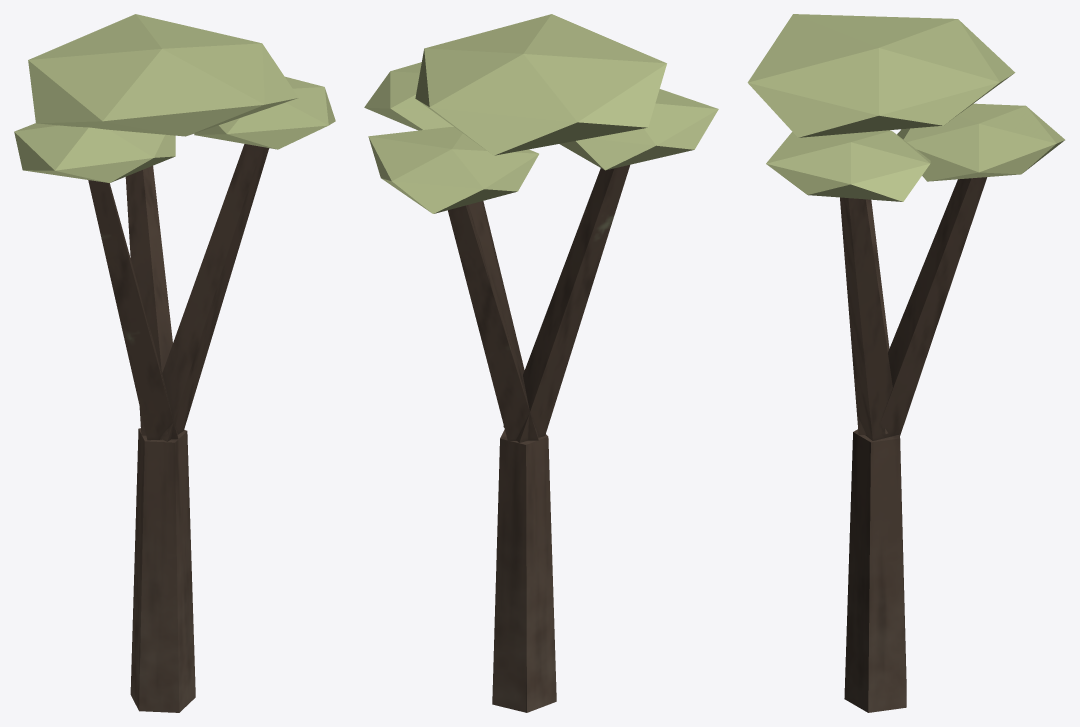
The model's file is arv_acacia_4.glb.
3 renders of one model, left to right at view 1: azimuth 30°, elevation 25°; view 2: azimuth 150°, elevation 25°; view 3: azimuth 270°, elevation 25°, orthographic.
Visible parts, largest first — view 1: arv_acacia_4; view 2: arv_acacia_4; view 3: arv_acacia_4.
Boxes of the visible parts, bbox=[...] form: arv_acacia_4: bbox=[14, 14, 335, 712]; arv_acacia_4: bbox=[364, 14, 718, 712]; arv_acacia_4: bbox=[747, 14, 1064, 712].
Size of the model in its own units: 0.8175 by 1.67 by 0.7384.
Materials: 2 (1 with a texture image).
